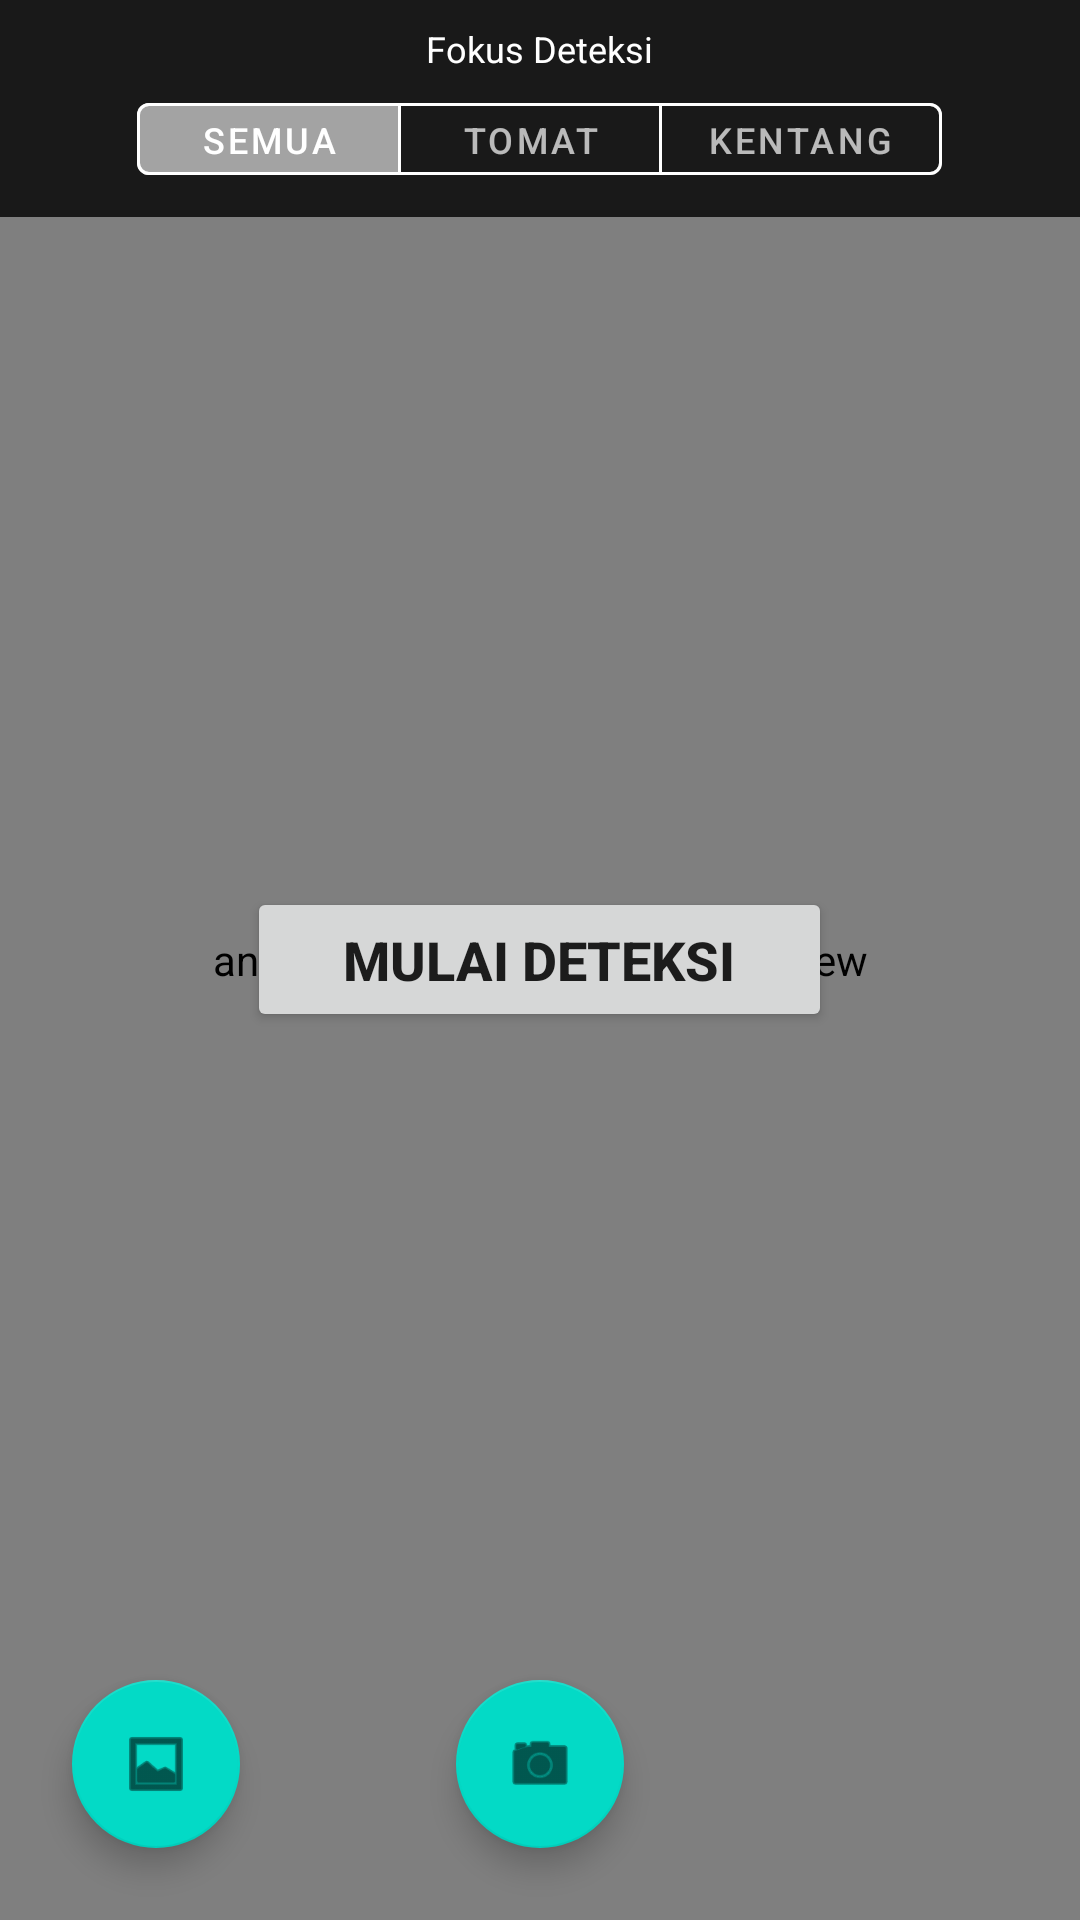

Icons on this 1080×1920 Android screen, each with its box as (x1, y1, x2, y2):
Buka Galeri: (72, 1680, 240, 1848)
Capture Photo: (456, 1680, 624, 1848)
